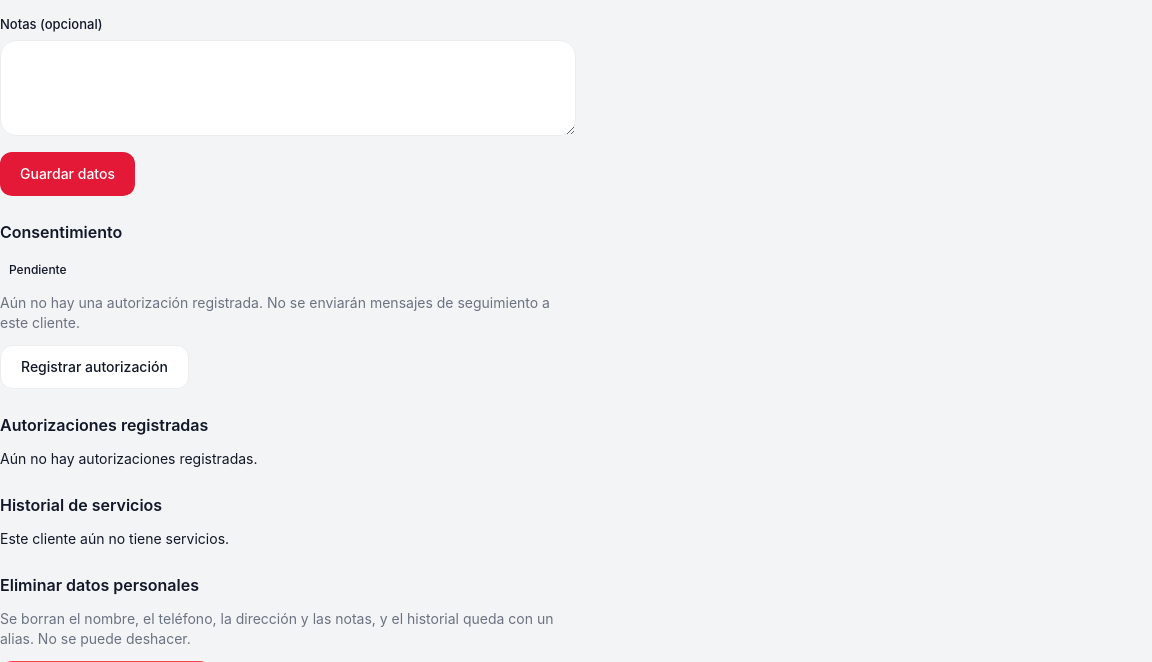
CustomerDetailPage: registrar autorización › registra la autorización con fecha, medio y notas, y actualiza el estado y la auditoría
This screenshot has width=1152, height=662.
(page scrolled)
Step 1. Click the button "Registrar autorización" → coordinates (94, 367), box [0,345,189,389]
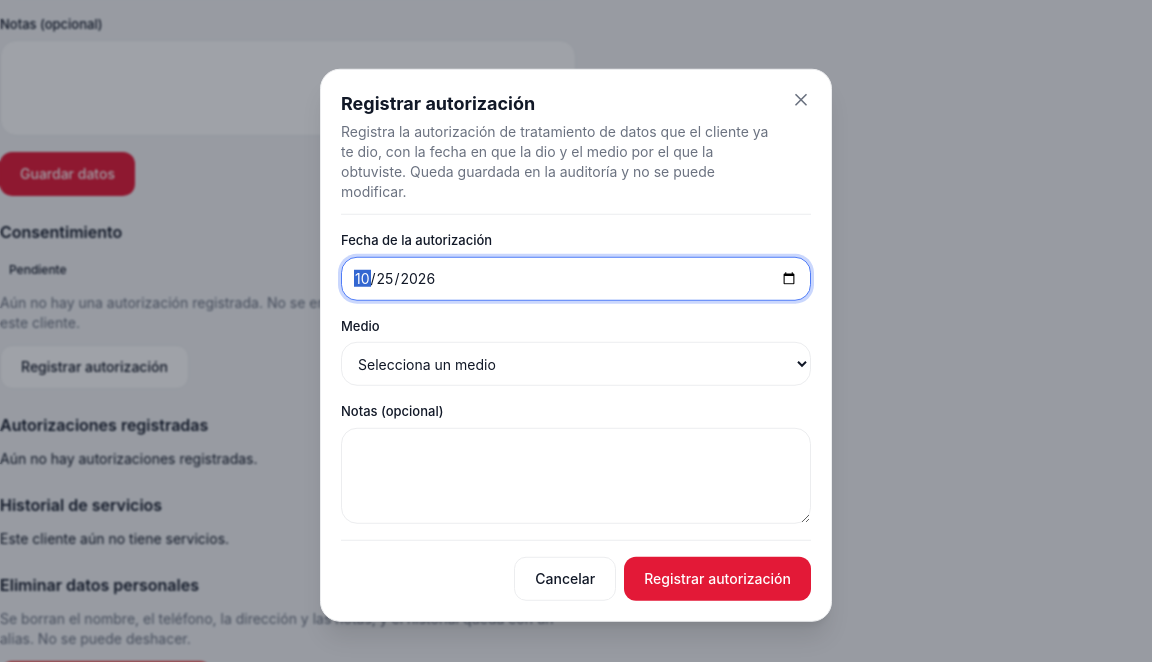
Step 2. Type "2026-10-15" into the date field labelled "Fecha de la autorización" → coordinates (576, 278), box [341,256,811,300]
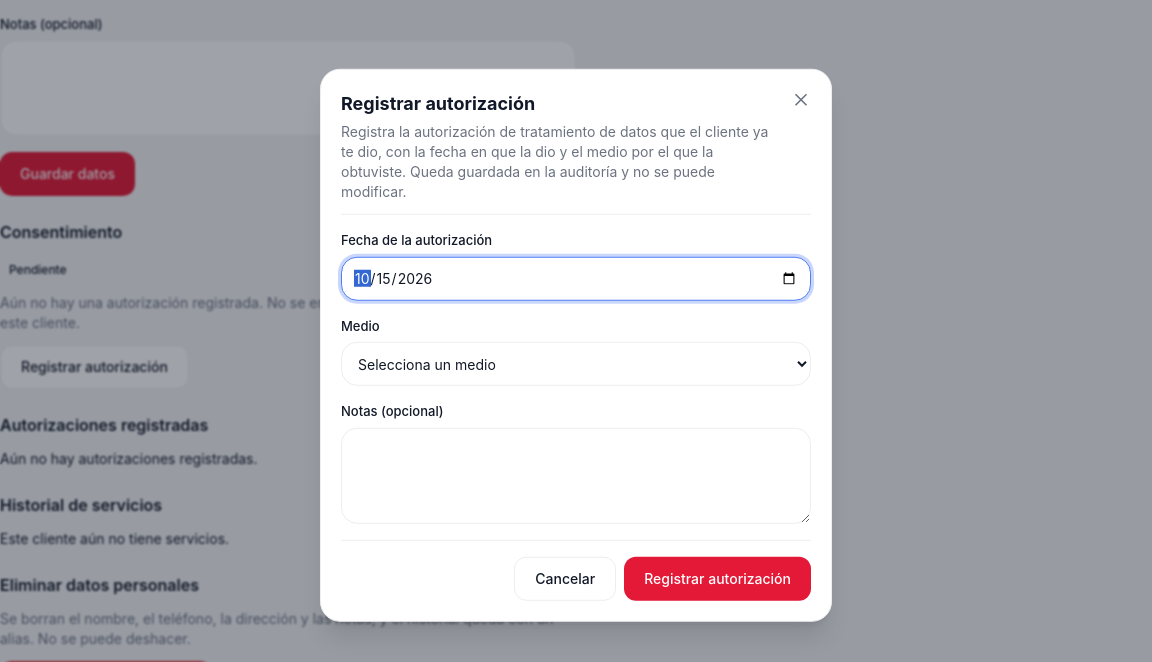
Step 3. Select "En persona" in the dropdown labelled "Medio" → coordinates (576, 364), box [341,342,811,386]
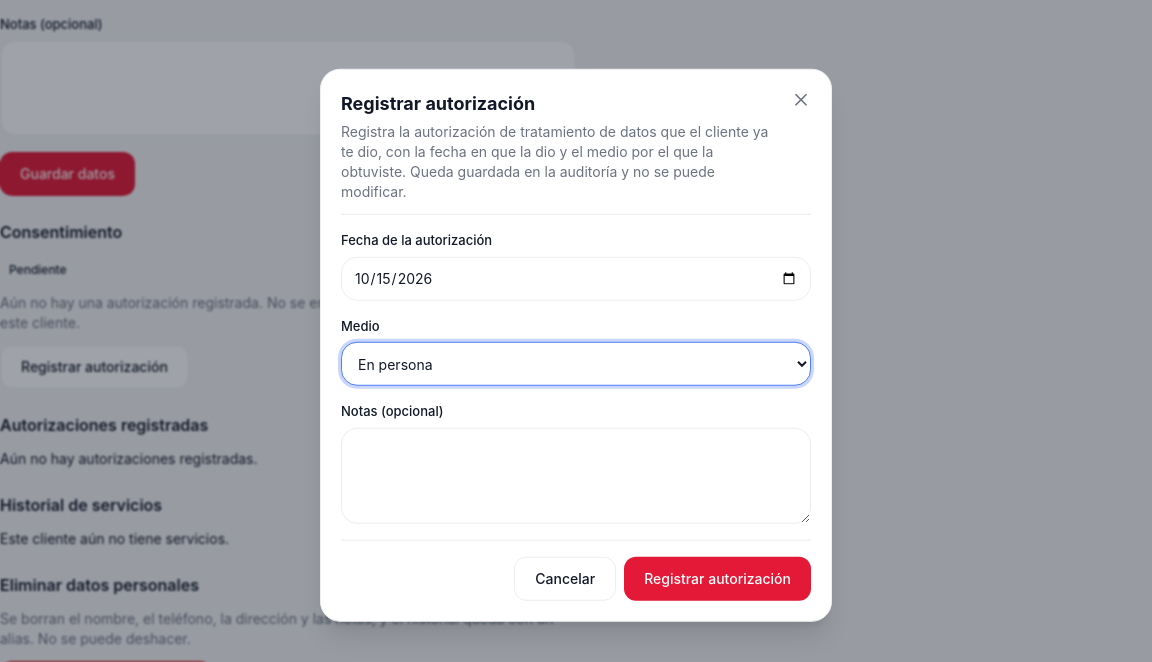
Step 4. Type "Firmó en el local" into the text box labelled "Notas (opcional)" → coordinates (576, 475), box [341,427,811,523]
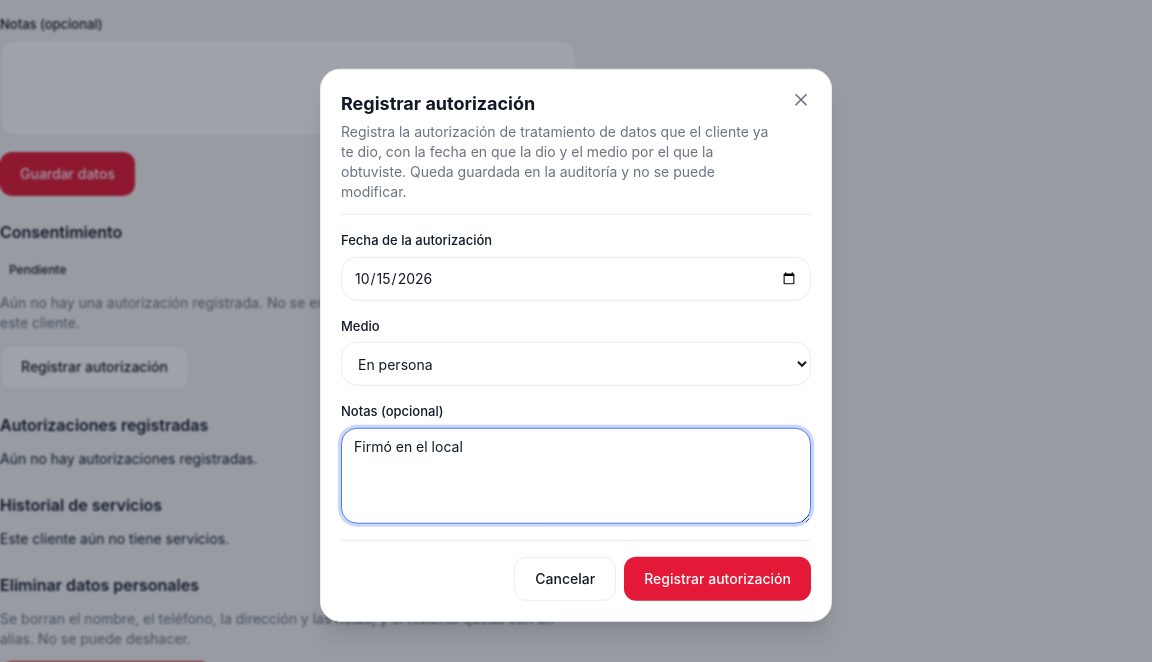
Step 5. Click the button "Registrar autorización" → coordinates (718, 578), box [624,556,811,600]
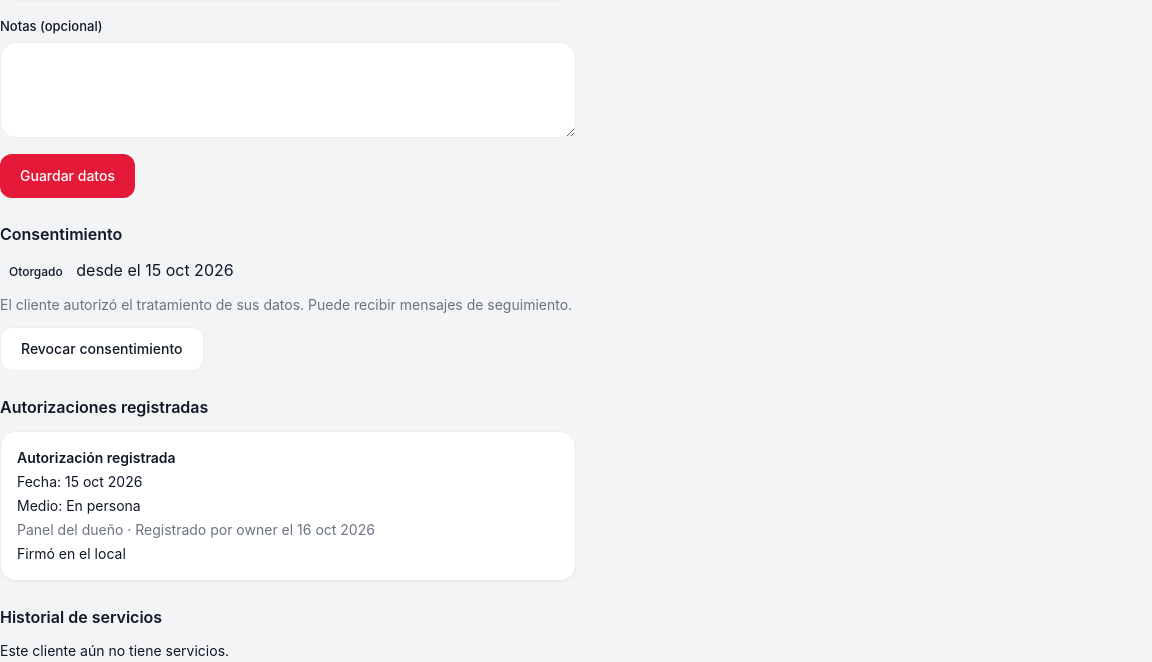
Result: the dialog is gone
Result: the text "Otorgado" is shown at [0,261,72,283]
Result: the text "Firmó en el local" is shown at [17,545,126,562]
